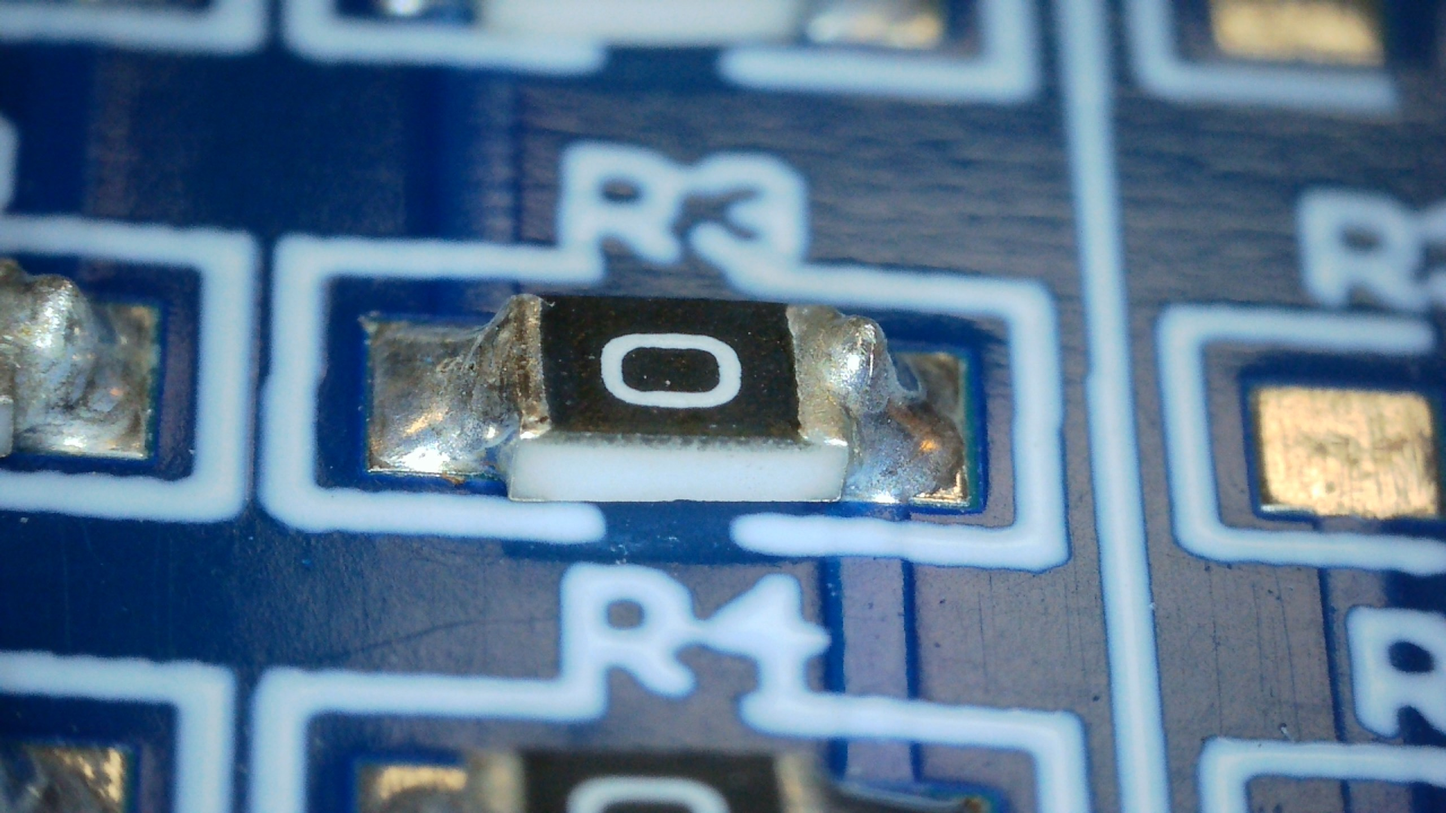NG: (790, 304, 964, 502), (372, 294, 551, 469)
